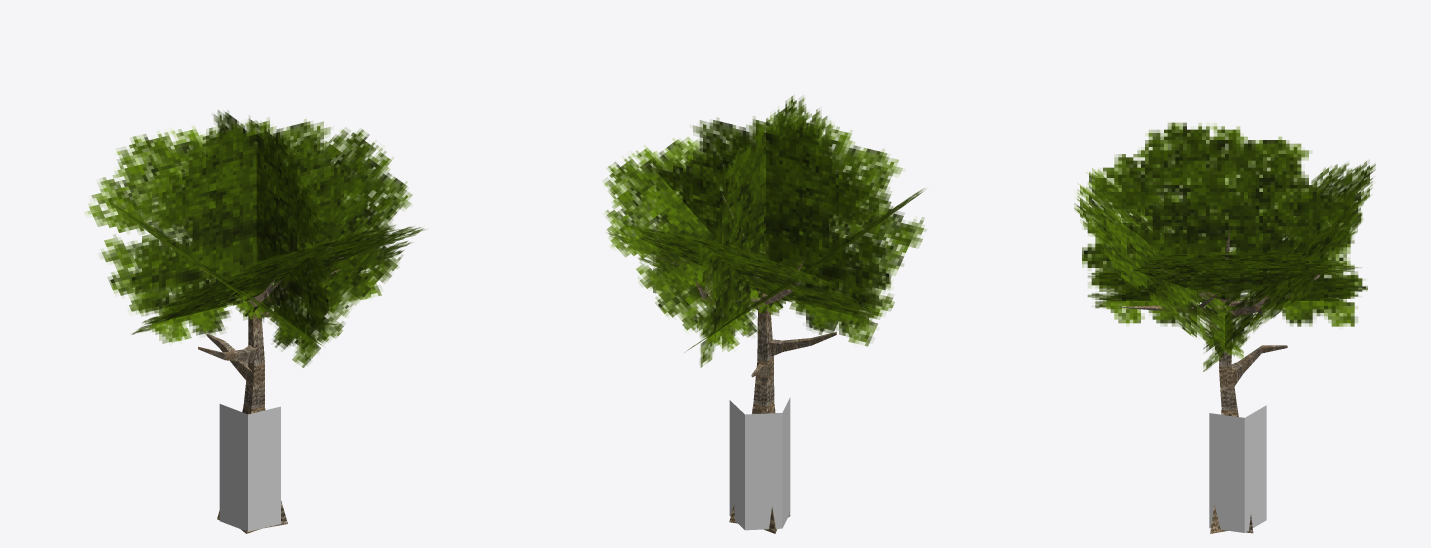
File: Tree_1.glb
3 renders of one model, left to right at view 1: azimuth 30°, elevation 25°; view 2: azimuth 150°, elevation 25°; view 3: azimuth 270°, elevation 25°, orthographic.
Parts seen in each view (by area): view 1: ..Tree_1, ..Tree Coll; view 2: ..Tree_1, ..Tree Coll; view 3: ..Tree_1, ..Tree Coll.
Boxes of the visible parts, box(x1,y1,x2,y2) form: ..Tree_1: box(84, 110, 426, 533); ..Tree Coll: box(219, 404, 280, 531); ..Tree_1: box(603, 95, 926, 533); ..Tree Coll: box(729, 397, 790, 530); ..Tree_1: box(1074, 122, 1375, 533); ..Tree Coll: box(1209, 405, 1266, 532).
Size of the model in its own units: 6.03 by 7.78 by 6.03.
3 materials, 3 textured.
